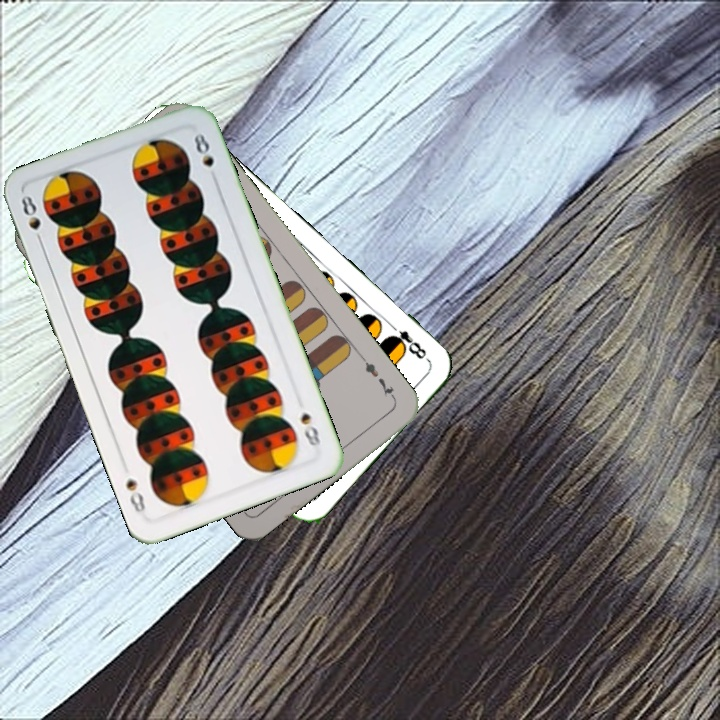E7: (357, 352, 399, 403)
E8: (383, 319, 432, 364)
S8: (17, 191, 47, 249), (296, 408, 323, 449)
